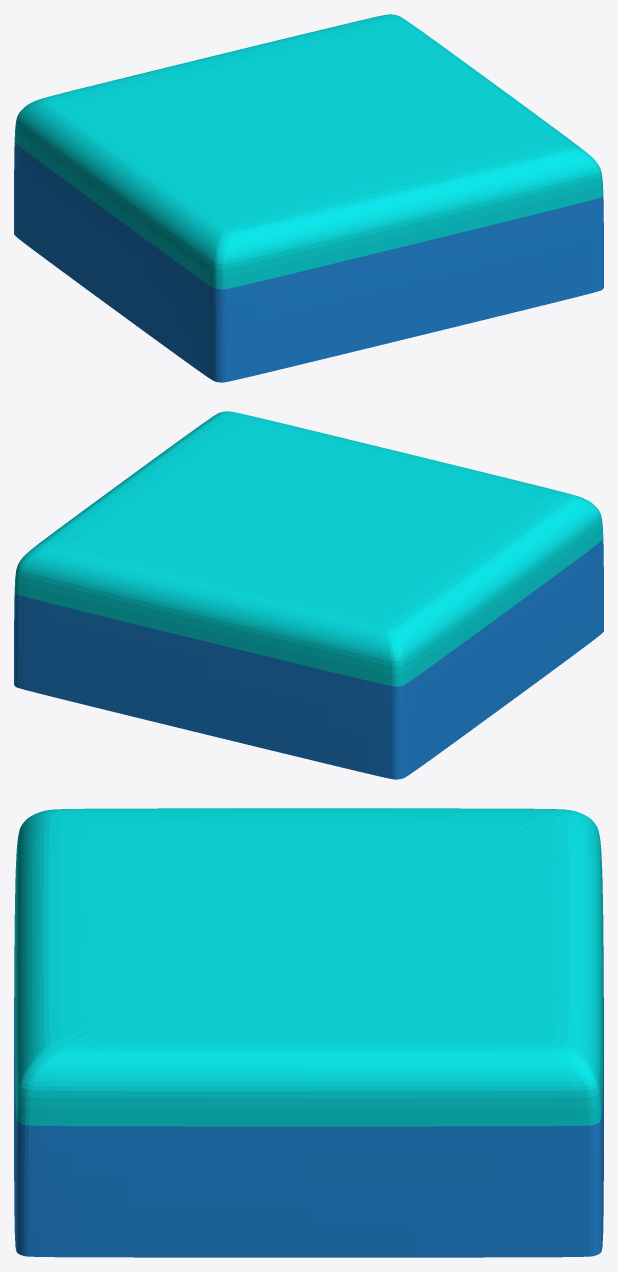
File: wall 2 .fbx
3 views of the same model, one above another, from view 1: azimuth 30°, elevation 25°; view 2: azimuth 150°, elevation 25°; view 3: azimuth 270°, elevation 25° (orthographic). The views are drawn at different scales.
Visible parts, largest first — view 1: Cube.001; view 2: Cube.001; view 3: Cube.001.
Part boxes in pixels (bbox=[...]): Cube.001: bbox=[14, 14, 603, 382]; Cube.001: bbox=[14, 411, 603, 779]; Cube.001: bbox=[14, 808, 603, 1257].
Bounding box in the file's own units: 589 × 200 × 544.
